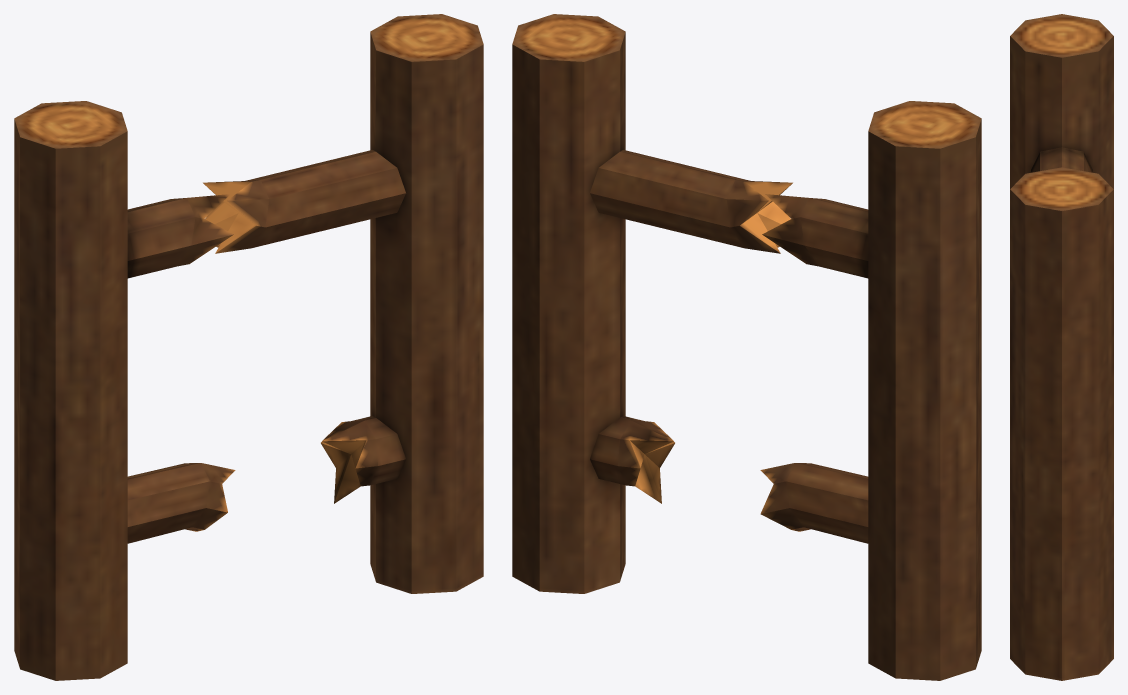
The model's file is Ladder02.fbx.
The picture shows the model from 3 angles, left to right: view 1: azimuth 30°, elevation 25°; view 2: azimuth 150°, elevation 25°; view 3: azimuth 270°, elevation 25°; orthographic projection. The views are drawn at different scales.
Parts seen in each view (by area): view 1: Ladder01; view 2: Ladder01; view 3: Ladder01.
Boxes of the visible parts, x1,y1,x2,y2 form: Ladder01: [14, 14, 483, 680]; Ladder01: [512, 14, 981, 680]; Ladder01: [1010, 14, 1113, 680].
Bounding box in the file's own units: 0.9 × 1 × 0.2.
